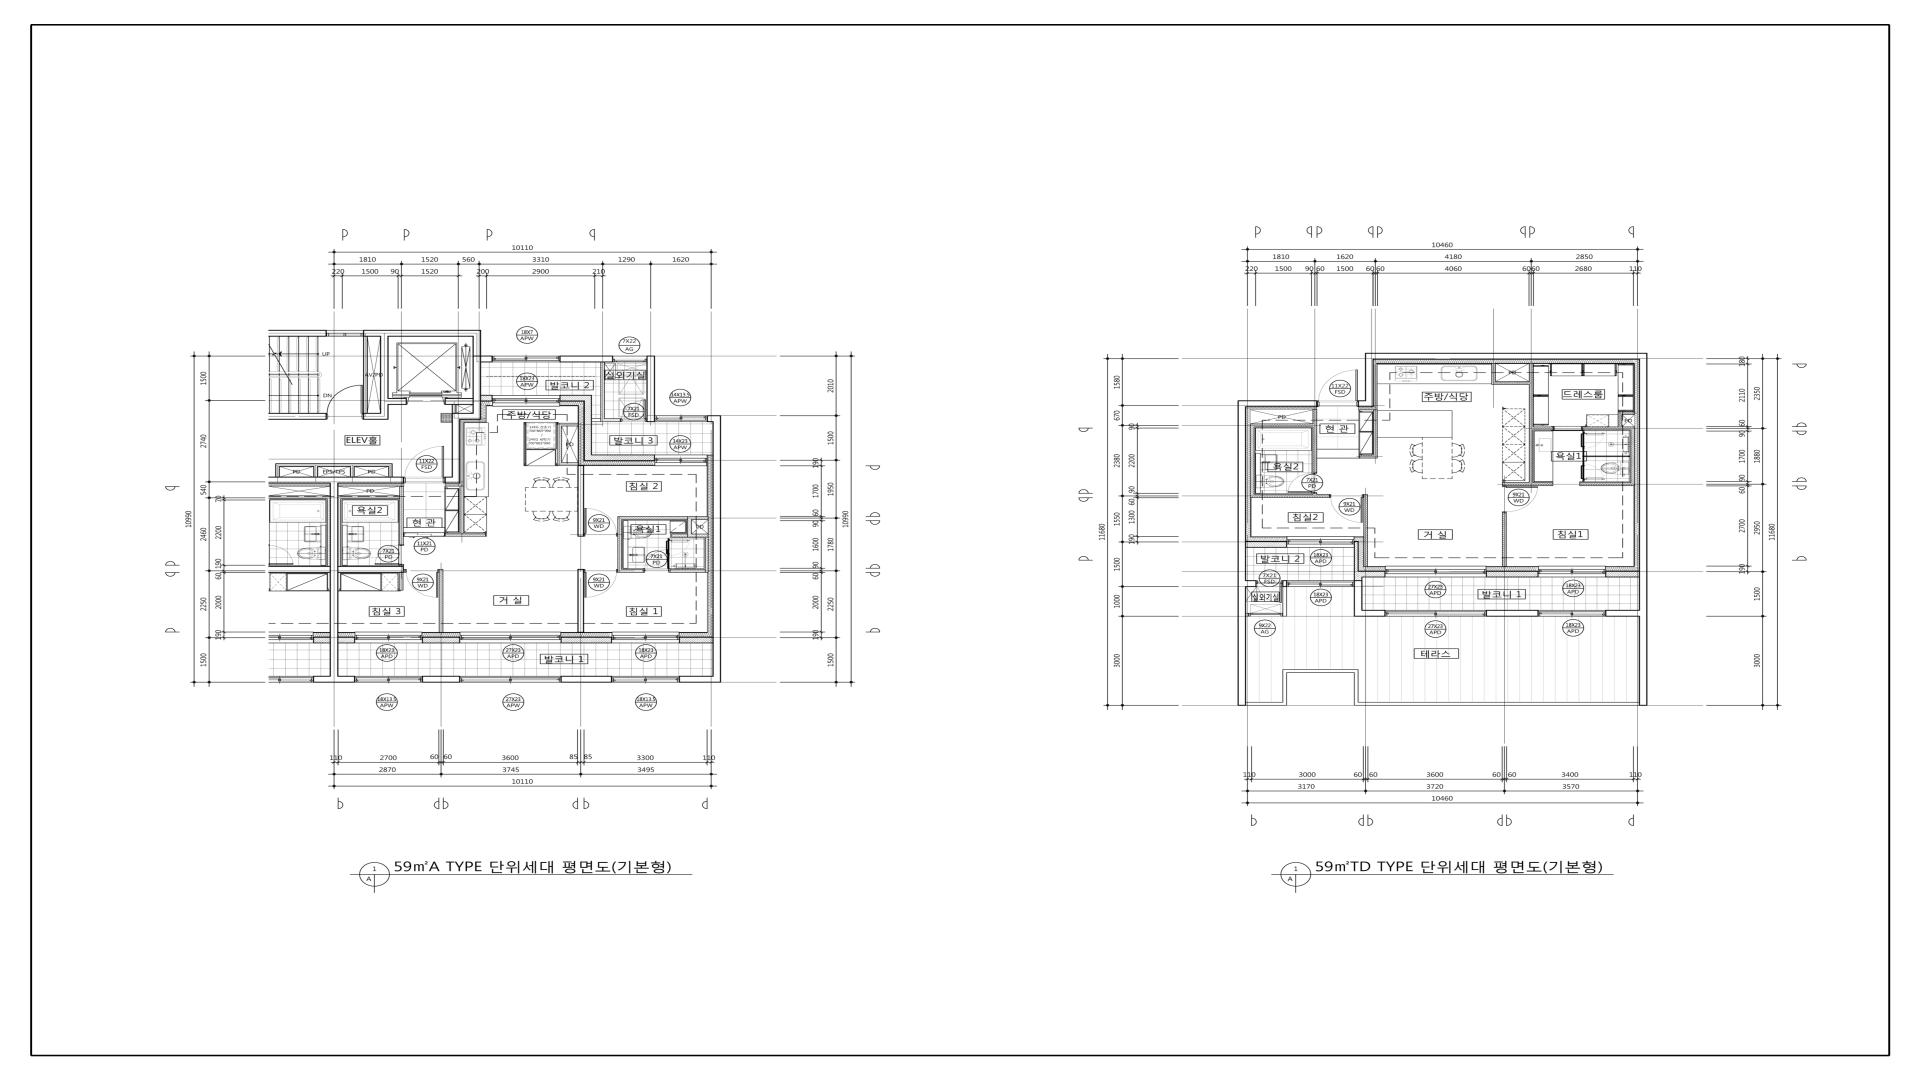door: (1317, 369, 1358, 407), (404, 446, 444, 484), (327, 385, 363, 419), (1502, 485, 1539, 513), (402, 570, 439, 597), (584, 508, 618, 537), (1329, 495, 1364, 522), (584, 570, 617, 597), (375, 545, 405, 566), (1288, 472, 1317, 493), (620, 400, 646, 422), (644, 550, 670, 572), (1257, 580, 1282, 603), (1581, 431, 1605, 448), (1581, 464, 1605, 481), (1551, 426, 1584, 431), (404, 533, 444, 537)
wall: (707, 415, 721, 676), (1639, 353, 1647, 617), (1237, 407, 1246, 617), (1365, 353, 1639, 360), (330, 484, 339, 675), (268, 476, 404, 484), (472, 330, 481, 413), (363, 330, 472, 336), (380, 336, 389, 413), (1528, 364, 1534, 485), (646, 356, 655, 422), (451, 419, 460, 477), (1237, 401, 1317, 407), (584, 455, 655, 462), (578, 465, 584, 537), (276, 463, 393, 467), (1365, 360, 1374, 407), (584, 401, 592, 455), (339, 566, 404, 572), (1486, 609, 1539, 617), (1250, 493, 1329, 498), (578, 568, 584, 632), (560, 675, 612, 683), (363, 336, 368, 413), (269, 330, 327, 336), (269, 413, 327, 419), (559, 356, 613, 363), (1486, 571, 1538, 578), (560, 637, 612, 644), (1312, 409, 1317, 472), (679, 675, 721, 683), (422, 675, 460, 683), (1354, 580, 1362, 617), (1364, 495, 1367, 567), (1250, 423, 1254, 495), (1246, 541, 1287, 547), (1606, 609, 1639, 617), (1373, 410, 1378, 459), (617, 520, 622, 568), (422, 637, 460, 644), (439, 570, 443, 633), (617, 517, 708, 520), (1254, 423, 1312, 427), (400, 487, 404, 545), (1580, 483, 1635, 487), (1631, 427, 1635, 483), (600, 363, 604, 418), (1606, 571, 1639, 578), (679, 637, 712, 644), (559, 394, 592, 401), (1502, 513, 1506, 567), (1354, 571, 1385, 578), (330, 675, 355, 683), (452, 413, 481, 419), (1282, 580, 1287, 616), (339, 496, 342, 566), (460, 487, 464, 533), (444, 398, 472, 405), (1362, 609, 1385, 617), (363, 413, 389, 419), (446, 533, 485, 537), (340, 496, 400, 498), (1491, 381, 1528, 385), (558, 426, 562, 463), (1584, 427, 1631, 430), (444, 476, 460, 484), (388, 398, 406, 405), (1354, 541, 1358, 571), (617, 568, 644, 572), (339, 637, 355, 644), (671, 534, 708, 537), (705, 537, 708, 572), (670, 570, 705, 572), (1534, 483, 1553, 487), (600, 418, 620, 422), (481, 356, 493, 363), (687, 520, 692, 534), (400, 572, 404, 591), (1502, 483, 1528, 485), (481, 394, 492, 401), (1246, 580, 1257, 587), (1618, 411, 1635, 415), (1491, 364, 1495, 381), (1584, 455, 1630, 456), (1360, 455, 1373, 459), (558, 463, 578, 465), (558, 423, 578, 426), (349, 467, 355, 476), (388, 467, 393, 476), (1618, 415, 1622, 427), (1534, 427, 1551, 430), (1358, 401, 1365, 407), (276, 467, 280, 476), (314, 467, 318, 476), (452, 405, 456, 413), (1582, 448, 1584, 464), (1354, 578, 1362, 580), (1246, 613, 1249, 616)
window: (1385, 566, 1486, 578), (460, 632, 560, 644), (1538, 566, 1606, 578), (355, 632, 422, 644), (612, 632, 679, 644), (1287, 537, 1354, 547), (492, 396, 559, 406), (460, 676, 560, 683), (654, 455, 708, 465), (1385, 611, 1486, 616), (1287, 580, 1354, 587), (355, 676, 422, 683), (612, 676, 679, 683), (493, 356, 559, 363), (1539, 611, 1606, 616), (655, 415, 707, 422), (327, 330, 363, 336), (613, 356, 646, 363), (1249, 613, 1283, 616)
